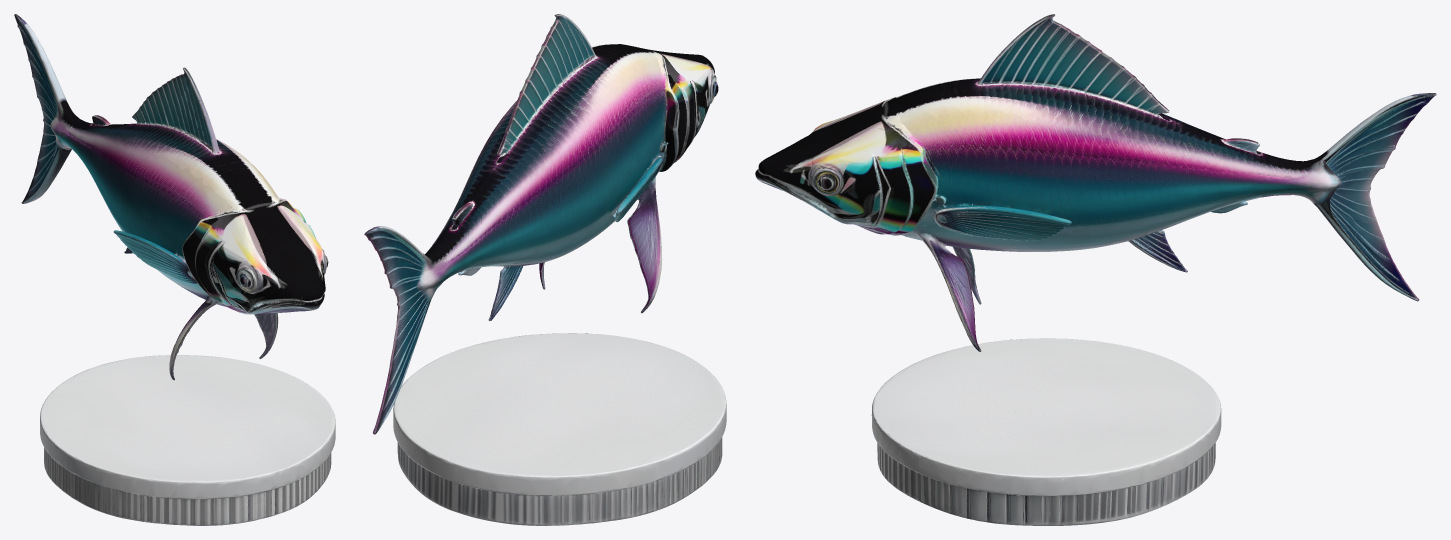
The model's file is fish_mirrorjack.glb.
The picture shows the model from 3 angles, left to right: view 1: azimuth 30°, elevation 25°; view 2: azimuth 150°, elevation 25°; view 3: azimuth 270°, elevation 25°; orthographic projection. The views are drawn at different scales.
Size of the model in its own units: 0.9194 by 1.37 by 1.9.
Materials: 1 (1 with a texture image).
